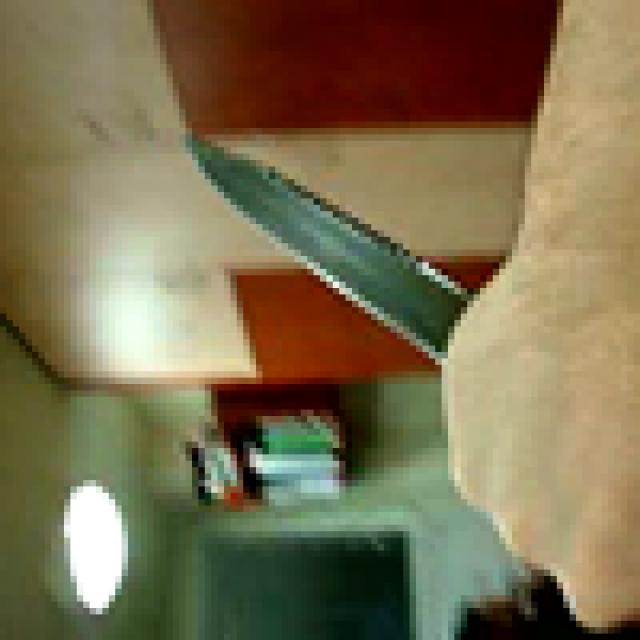Knife: (179, 122, 493, 384)
